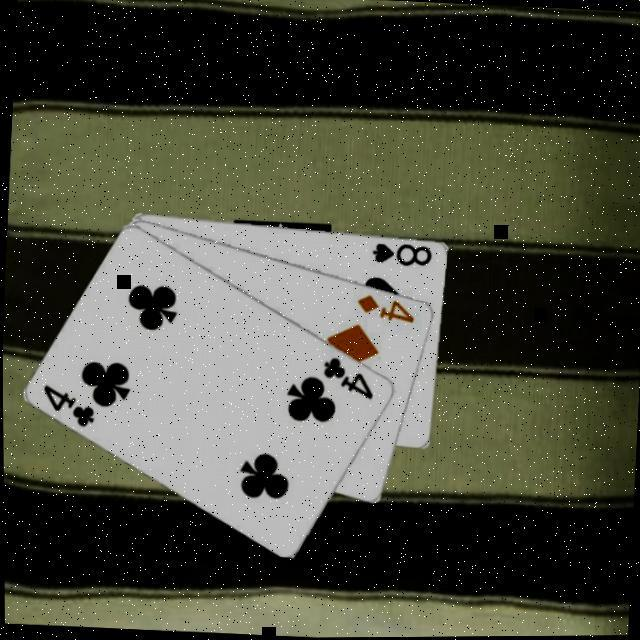4C: (36, 382, 96, 432), (317, 356, 376, 404)
4D: (351, 293, 417, 328)
8S: (367, 241, 432, 272)
